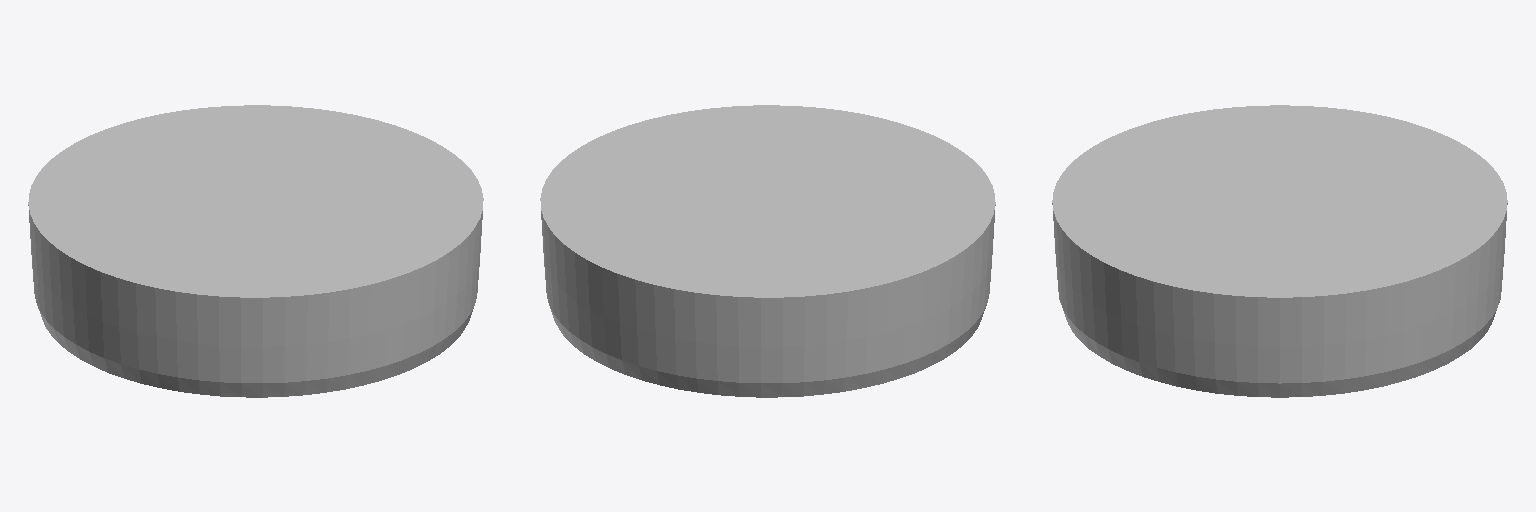
File: pot_fill.obj
3 views of the same model, side by side, from view 1: azimuth 30°, elevation 25°; view 2: azimuth 150°, elevation 25°; view 3: azimuth 270°, elevation 25° (orthographic).
Visible parts, largest first — view 1: fill_Cylinder.005; view 2: fill_Cylinder.005; view 3: fill_Cylinder.005.
Part boxes in pixels (bbox=[...]): fill_Cylinder.005: bbox=[28, 105, 483, 397]; fill_Cylinder.005: bbox=[540, 105, 995, 397]; fill_Cylinder.005: bbox=[1052, 105, 1507, 397].
Bounding box in the file's own units: 7.81 × 2.06 × 7.81.